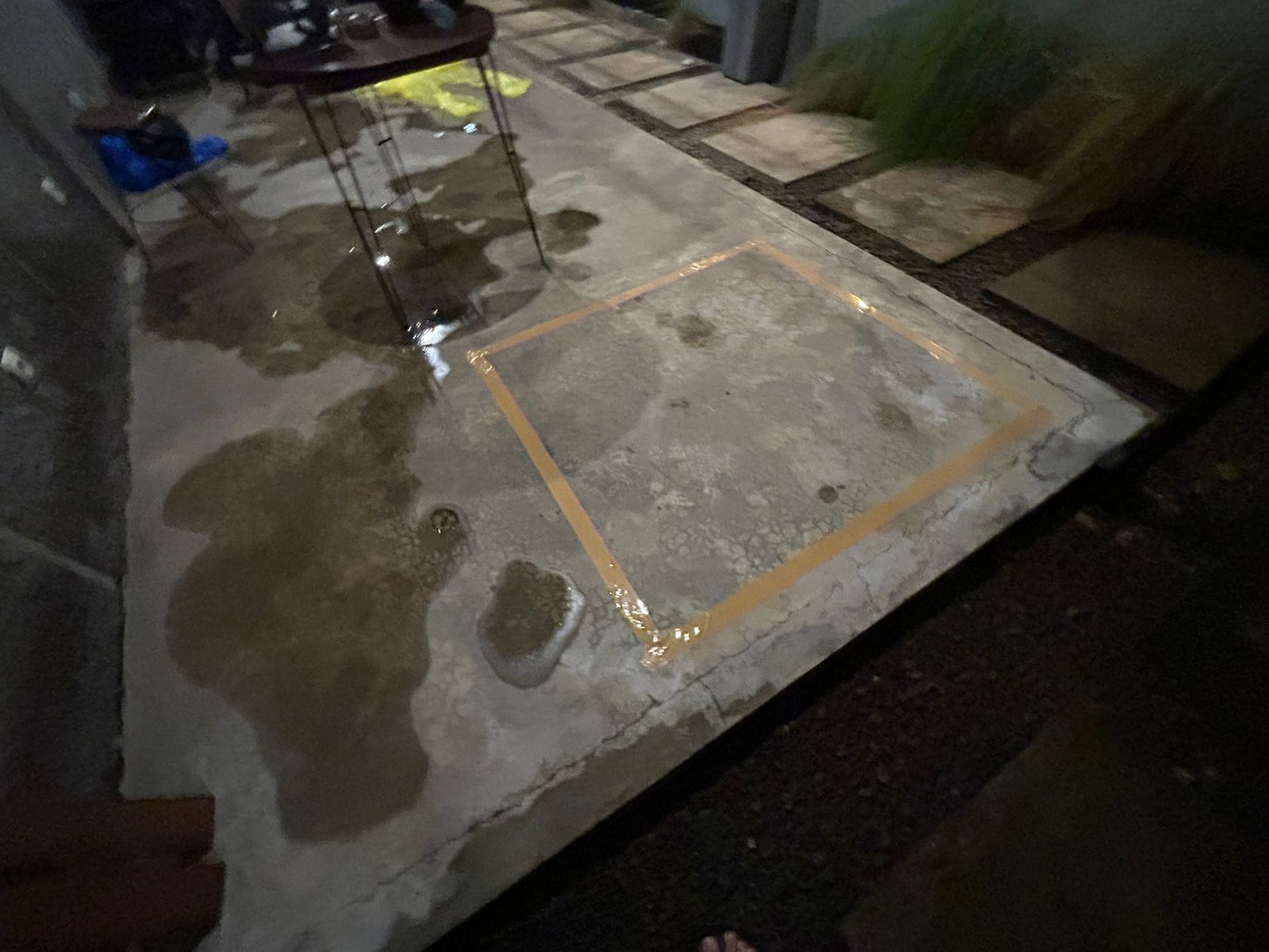floor marking: (467, 239, 1052, 667)
